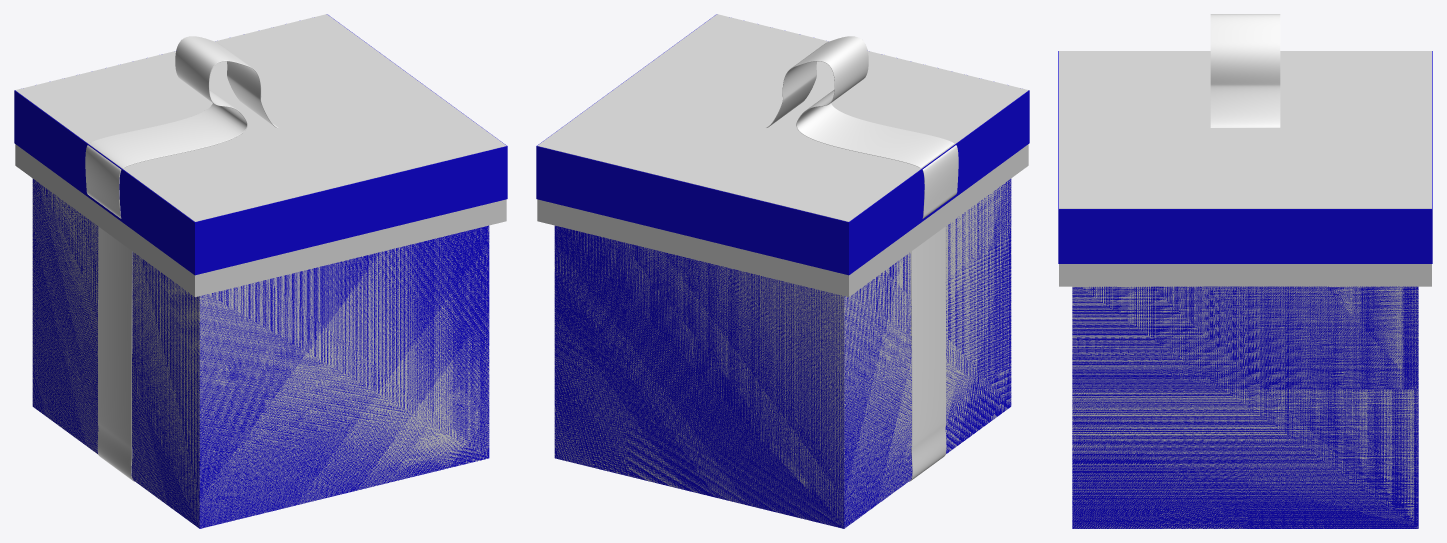
Rendered from cadeau.glb.
3 renders of one model, left to right at view 1: azimuth 30°, elevation 25°; view 2: azimuth 150°, elevation 25°; view 3: azimuth 270°, elevation 25°, orthographic. The views are drawn at different scales.
Visible parts, largest first — view 1: Cube, Box, Lid, BezierCurve.001; view 2: Cube, Box, Lid, BezierCurve.001; view 3: Cube, Box, Lid, BezierCurve.001.
Boxes of the visible parts, <box> form: Cube: <box>15,14,506,527</box>; Box: <box>32,178,489,528</box>; Lid: <box>14,14,507,275</box>; BezierCurve.001: <box>85,36,278,481</box>; Cube: <box>537,14,1028,527</box>; Box: <box>554,179,1011,528</box>; Lid: <box>536,14,1029,275</box>; BezierCurve.001: <box>765,36,958,481</box>; Cube: <box>1059,51,1431,528</box>; Box: <box>1072,286,1418,528</box>; Lid: <box>1058,51,1432,263</box>; BezierCurve.001: <box>1210,14,1280,127</box>.
Bounding box in the file's own units: 2.18 × 2.64 × 2.16.
